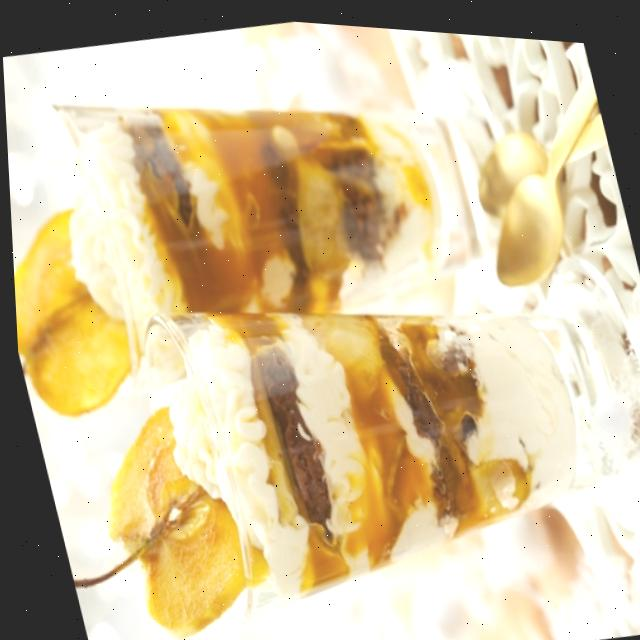蛋糕甜品: (9, 210, 640, 640)
